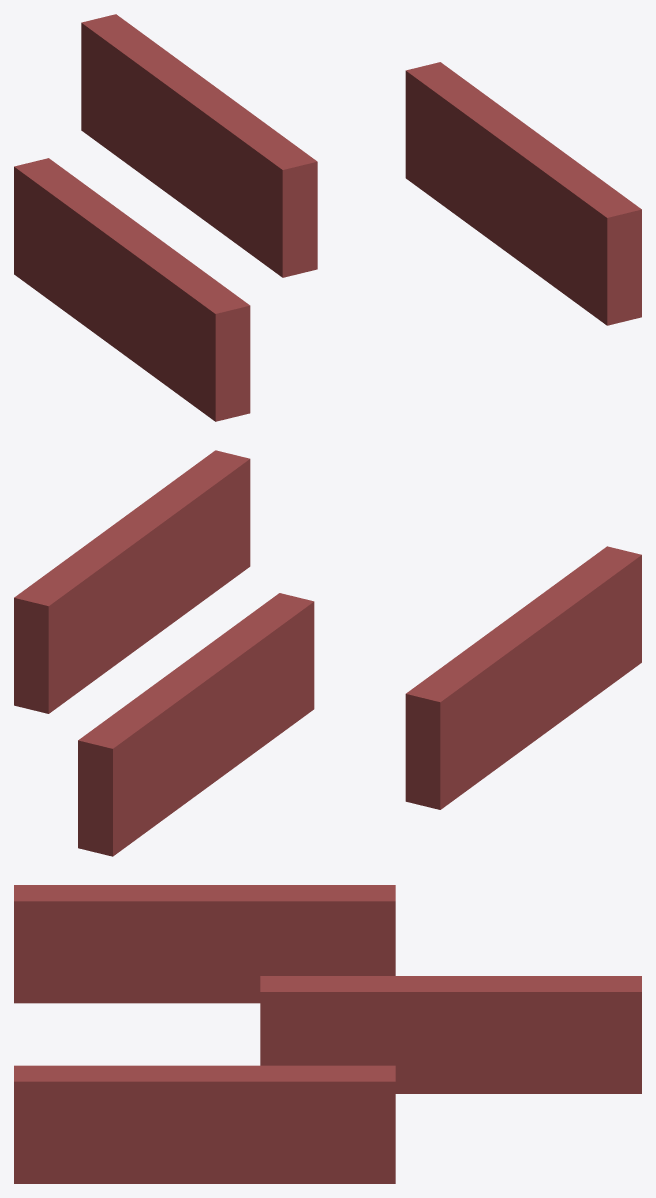
File: Wall.fbx
3 views of the same model, one above another, from view 1: azimuth 30°, elevation 25°; view 2: azimuth 150°, elevation 25°; view 3: azimuth 270°, elevation 25° (orthographic). The views are drawn at different scales.
Parts seen in each view (by area): view 1: pasted__pCube8 (×2), pCube8; view 2: pasted__pCube8 (×2), pCube8; view 3: pasted__pCube8 (×2), pCube8.
Boxes of the visible parts, left/top/right/bottom form: pasted__pCube8 (×2): left=14, top=14, right=317, bottom=421; pCube8: left=405, top=62, right=641, bottom=325; pasted__pCube8 (×2): left=78, top=546, right=641, bottom=856; pCube8: left=14, top=450, right=250, bottom=713; pasted__pCube8 (×2): left=14, top=885, right=641, bottom=1093; pCube8: left=14, top=1065, right=395, bottom=1183.
Size of the model in its own units: 10.92 by 2.65 by 14.71.
